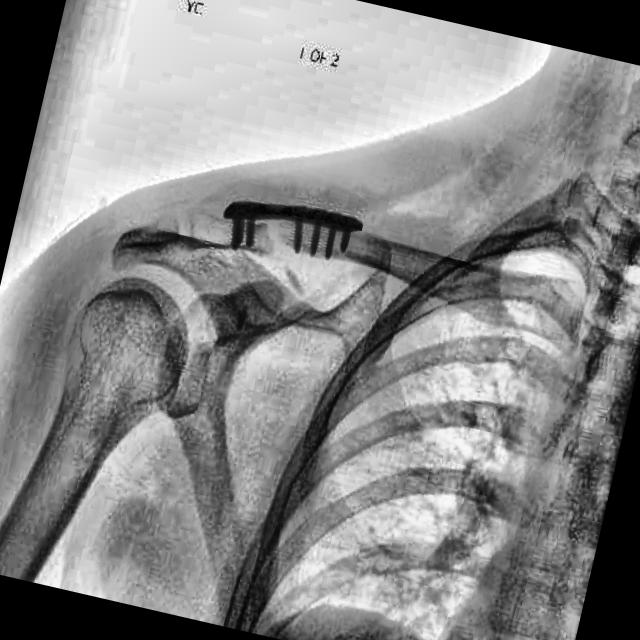shoulder fracture: (252, 219, 294, 265)
